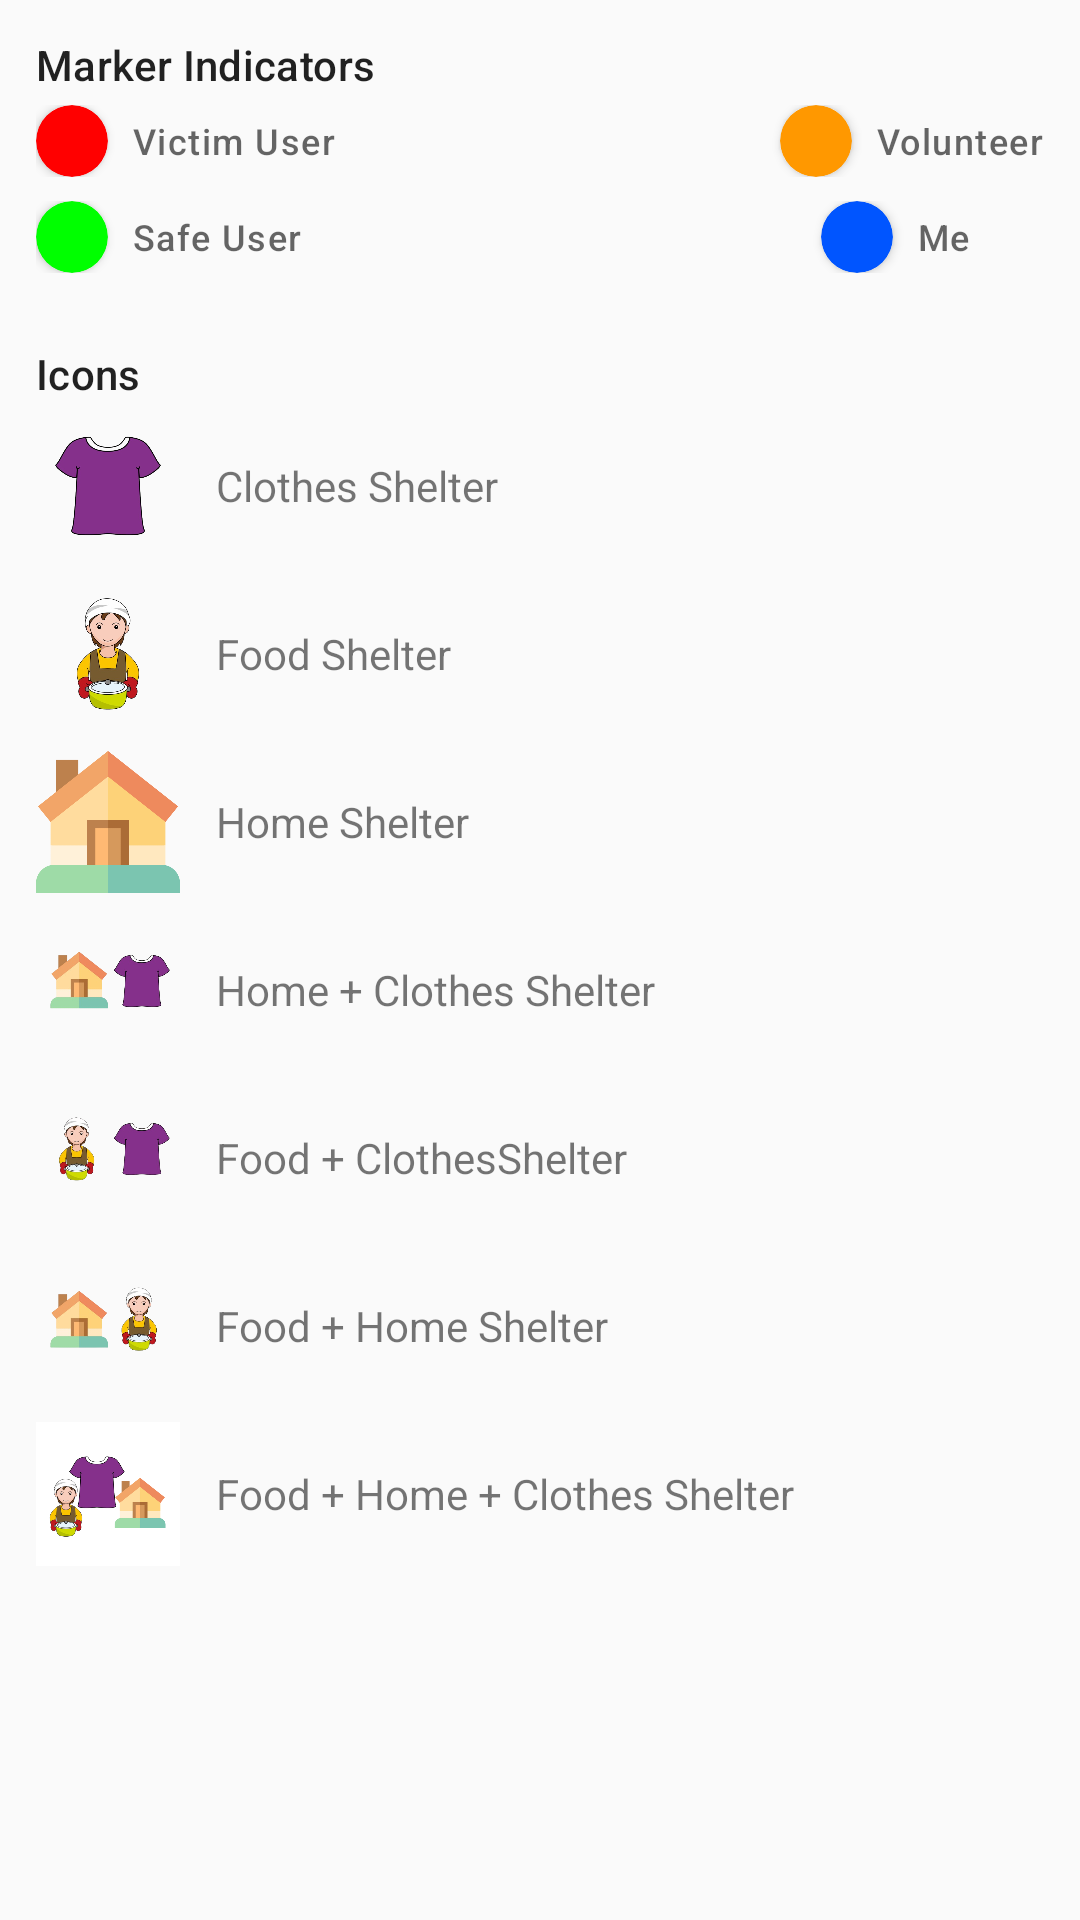

Point at icon controls on the screen. Image size 1080px x 1920px, points as (x,y).
clothes marker: (108,486)
food and clothes: (114,1149)
food marker: (108,654)
marker all helps: (108,1496)
shelter and clothes: (110,980)
shelter and food: (103,1319)
